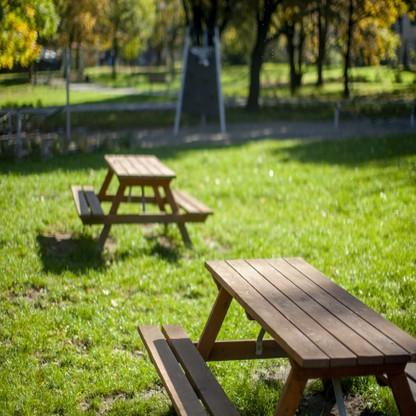obstacle: (130, 260, 410, 411), (59, 149, 213, 245)
